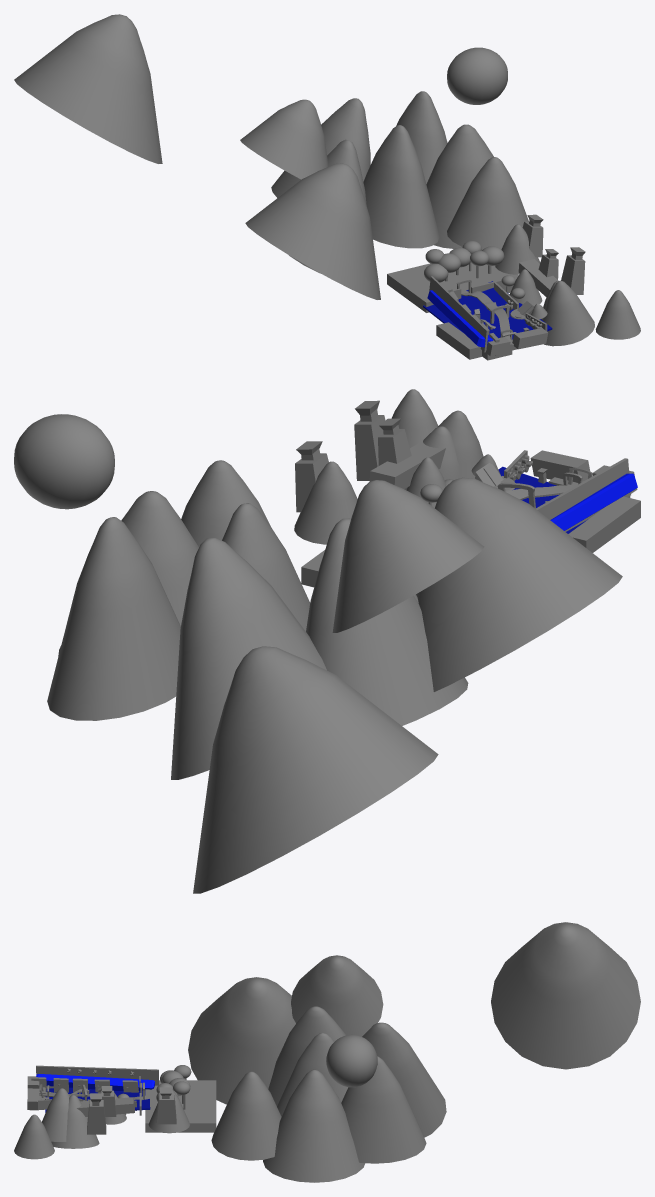
File: CTRScene.fbx
The picture shows the model from 3 angles, top to bottom: view 1: azimuth 30°, elevation 25°; view 2: azimuth 150°, elevation 25°; view 3: azimuth 270°, elevation 25°; orthographic projection. The views are drawn at different scales.
Parts seen in each view (by area): view 1: Mountain1__8_, Mountain1__5_, Mountain1__21_, Mountain1__9_, Mountain1__6_, Mountain1__19_, Moon, Mountain1__22_, ThickSideWallLeft__7_, Mountain1__20_, Mountain1__13_, Mountain1__11_ (+11 smaller); view 2: Mountain1__8_, Mountain1__5_, Mountain1__20_, Mountain1__22_, Mountain1__6_, Mountain1__23_, Moon, Mountain1__19_, Mountain1__21_, Mountain1__9_, Mountain1__17_, Wall__1_ (+11 smaller); view 3: Mountain1__8_, Mountain1__5_, Mountain1__19_, Mountain1__20_, Mountain1__6_, Mountain1__9_, Mountain1__22_, Mountain1__23_, Moon, ThickSideWallLeft__7_, Mountain1__21_, Wall (+10 smaller).
Part boxes in pixels (bbox=[...]): Mountain1__8_: bbox=[14, 14, 162, 163]; Mountain1__5_: bbox=[245, 163, 380, 299]; Mountain1__21_: bbox=[363, 125, 439, 248]; Mountain1__9_: bbox=[447, 157, 528, 250]; Mountain1__6_: bbox=[240, 99, 328, 179]; Mountain1__19_: bbox=[426, 124, 493, 248]; Moon: bbox=[447, 47, 507, 104]; Mountain1__22_: bbox=[271, 98, 370, 197]; ThickSideWallLeft__7_: bbox=[387, 263, 518, 312]; Mountain1__20_: bbox=[396, 91, 447, 183]; Mountain1__13_: bbox=[542, 280, 594, 345]; Mountain1__11_: bbox=[595, 290, 640, 339]; Mountain1__8_: bbox=[193, 646, 438, 893]; Mountain1__5_: bbox=[416, 477, 622, 691]; Mountain1__20_: bbox=[47, 517, 180, 720]; Mountain1__22_: bbox=[171, 538, 326, 779]; Mountain1__6_: bbox=[332, 480, 484, 632]; Mountain1__23_: bbox=[306, 518, 468, 725]; Moon: bbox=[14, 414, 114, 509]; Mountain1__19_: bbox=[58, 491, 198, 656]; Mountain1__21_: bbox=[222, 503, 310, 631]; Mountain1__9_: bbox=[181, 460, 270, 547]; Mountain1__17_: bbox=[294, 461, 357, 544]; Wall__1_: bbox=[568, 496, 640, 552]; Mountain1__8_: bbox=[491, 922, 640, 1069]; Mountain1__5_: bbox=[188, 977, 295, 1104]; Mountain1__19_: bbox=[263, 1069, 365, 1182]; Mountain1__20_: bbox=[341, 1056, 426, 1163]; Mountain1__6_: bbox=[291, 955, 383, 1036]; Mountain1__9_: bbox=[211, 1071, 281, 1160]; Mountain1__22_: bbox=[362, 1022, 446, 1137]; Mountain1__23_: bbox=[268, 1006, 345, 1105]; Moon: bbox=[326, 1034, 377, 1087]; ThickSideWallLeft__7_: bbox=[145, 1080, 216, 1132]; Mountain1__21_: bbox=[277, 1033, 347, 1116]; Wall: bbox=[36, 1065, 158, 1085].
Size of the model in its own units: 73601 by 34272 by 123170.
